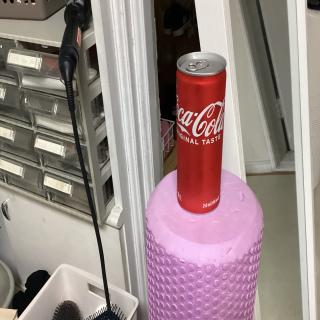cocacola: (175, 49, 230, 214)
